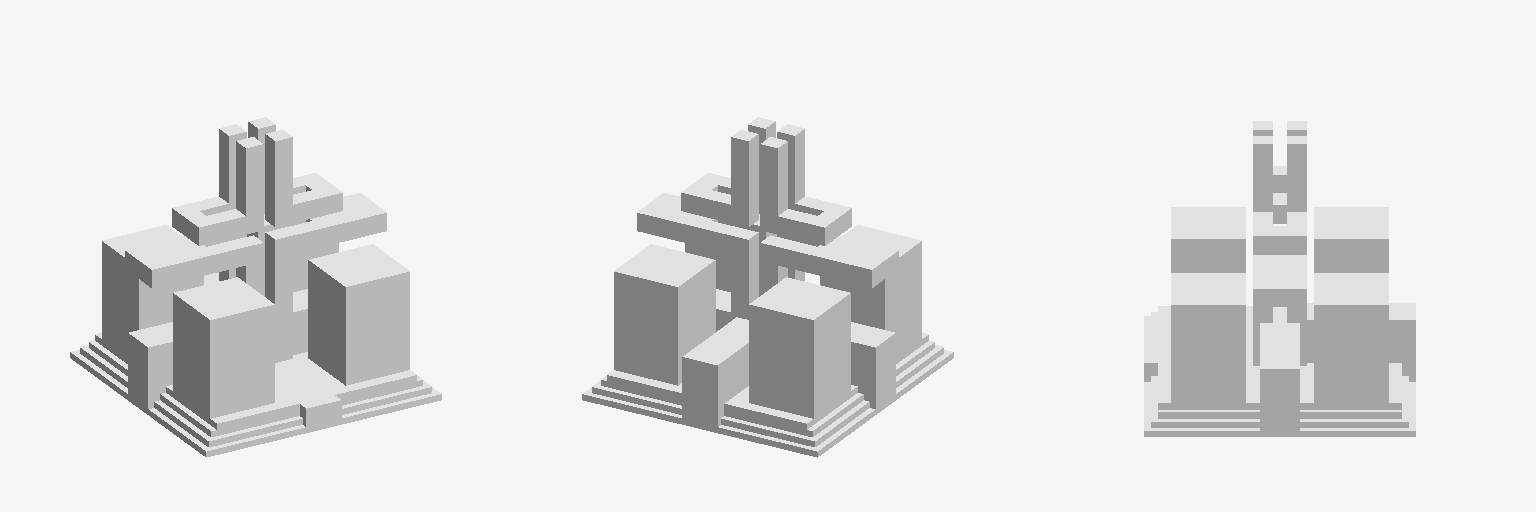
The model's file is repair_core.obj.
3 renders of one model, left to right at view 1: azimuth 30°, elevation 25°; view 2: azimuth 150°, elevation 25°; view 3: azimuth 270°, elevation 25°, orthographic.
Visible parts, largest first — view 1: repair_core; view 2: repair_core; view 3: repair_core.
Boxes of the visible parts, x1,y1,x2,y2 form: repair_core: [70, 117, 441, 457]; repair_core: [582, 117, 953, 457]; repair_core: [1144, 121, 1415, 436].
Size of the model in its own units: 80 by 80 by 80.